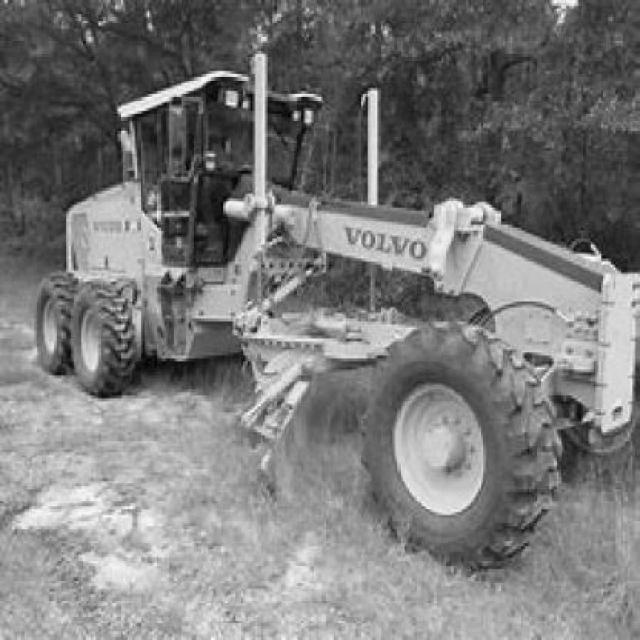Construction Equipment: (34, 53, 640, 573)
